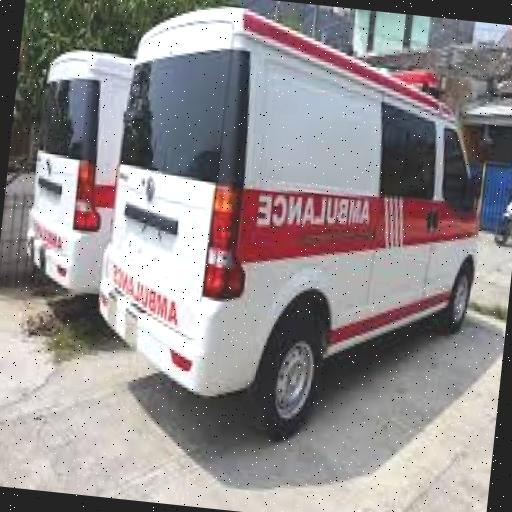Police car: (90, 0, 503, 467)
